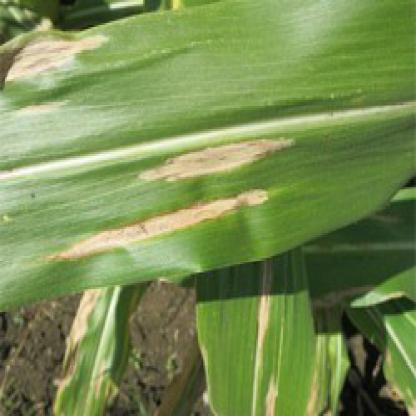Corn leaf blight: (5, 19, 414, 276)
